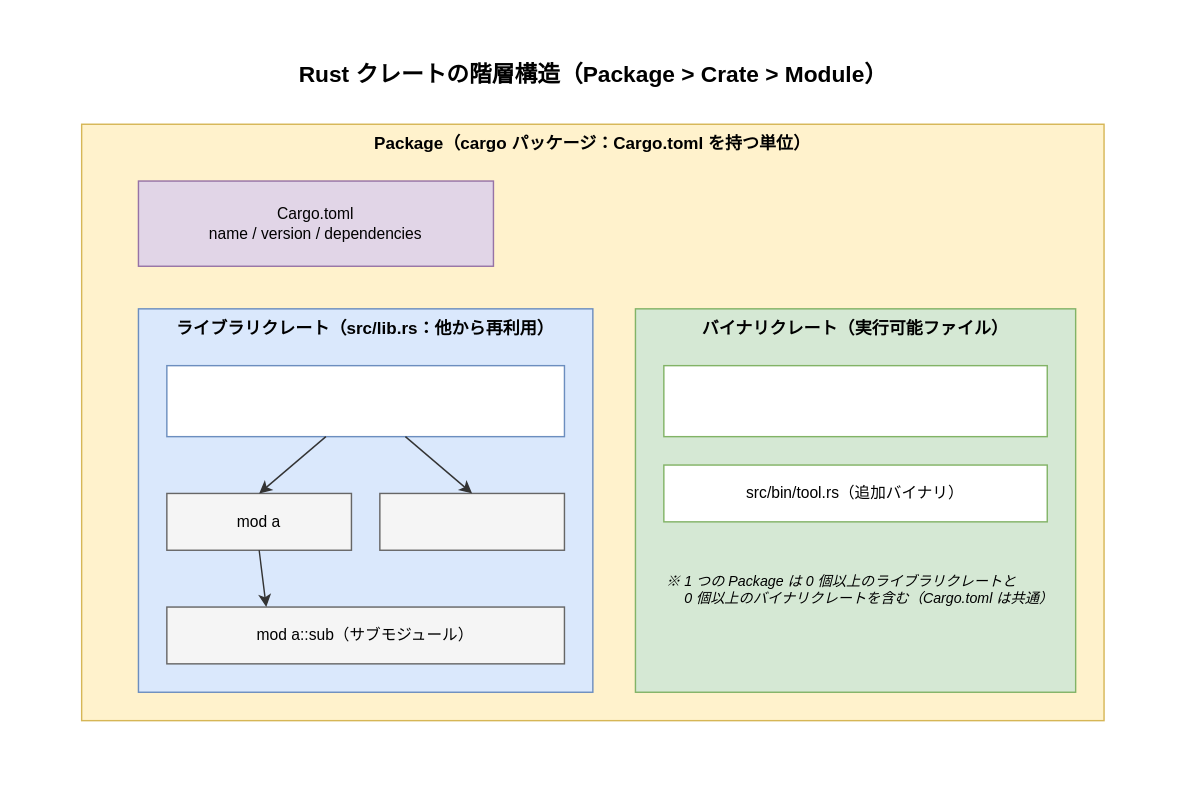
Some shapes in this 1184 by 787 pixel diagram are drawn without their labels. Each missing label, with the centre of its shape:
"mod b" goes at [471,521].
"src/lib.rs（クレートルート：crate キーワードが指す頂点）" goes at [364,400].
"src/main.rs（fn main：パッケージ名と同名のバイナリ）" goes at [854,400].
